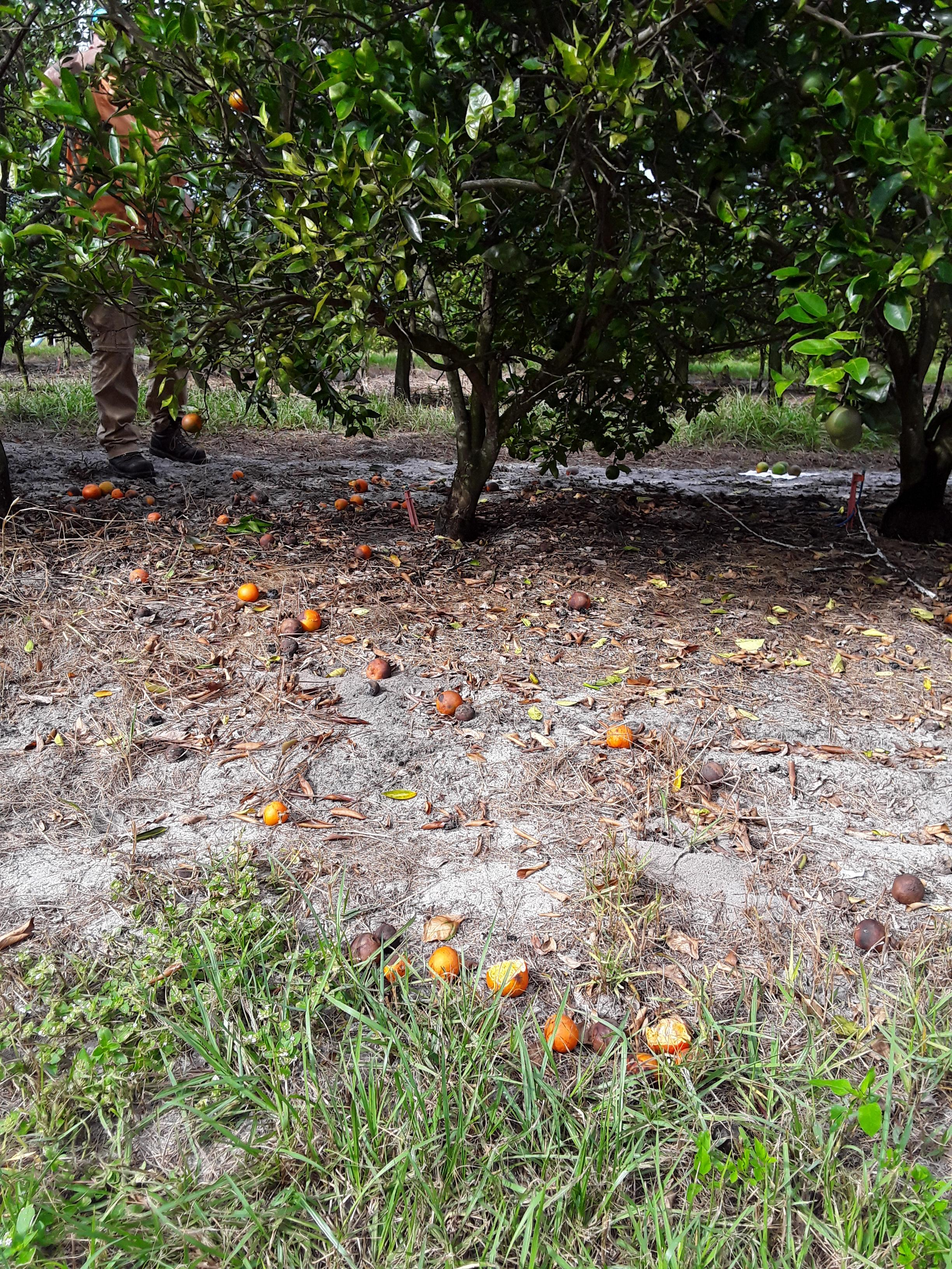fruit_on_ground: (735, 109, 778, 153), (796, 60, 833, 98), (826, 403, 863, 439), (826, 422, 867, 454), (706, 187, 741, 217), (592, 332, 618, 362), (691, 302, 716, 331), (178, 411, 206, 436), (228, 85, 252, 114), (564, 253, 590, 274), (605, 463, 623, 482), (595, 440, 615, 457), (519, 442, 532, 460), (505, 447, 519, 459), (512, 437, 522, 447)
fruit_on_tree: (628, 1008, 694, 1063), (481, 955, 541, 1002), (848, 906, 894, 954), (539, 1006, 583, 1055), (425, 944, 466, 989), (893, 866, 928, 908), (372, 924, 410, 959), (694, 754, 730, 790), (599, 721, 639, 750), (348, 932, 381, 964), (297, 602, 327, 634), (433, 684, 462, 714), (262, 799, 291, 828), (363, 654, 394, 681), (163, 741, 190, 765), (566, 588, 592, 611), (235, 582, 262, 604), (126, 567, 154, 587), (281, 616, 304, 638), (453, 701, 475, 724), (252, 486, 273, 506), (80, 481, 102, 500), (257, 533, 280, 549), (347, 492, 367, 509), (354, 544, 373, 561), (135, 602, 154, 619), (536, 541, 558, 555), (351, 477, 370, 493), (98, 477, 114, 496), (282, 529, 299, 546), (483, 481, 503, 495), (121, 488, 142, 501), (66, 501, 83, 517), (108, 486, 125, 500), (142, 494, 159, 508), (772, 461, 787, 476), (64, 482, 79, 497), (230, 466, 245, 480), (788, 465, 804, 478), (216, 513, 232, 526), (565, 467, 583, 478), (334, 497, 350, 509), (756, 460, 769, 474), (370, 472, 383, 486), (387, 499, 402, 511), (146, 513, 164, 523), (778, 457, 790, 468), (755, 459, 767, 460)
